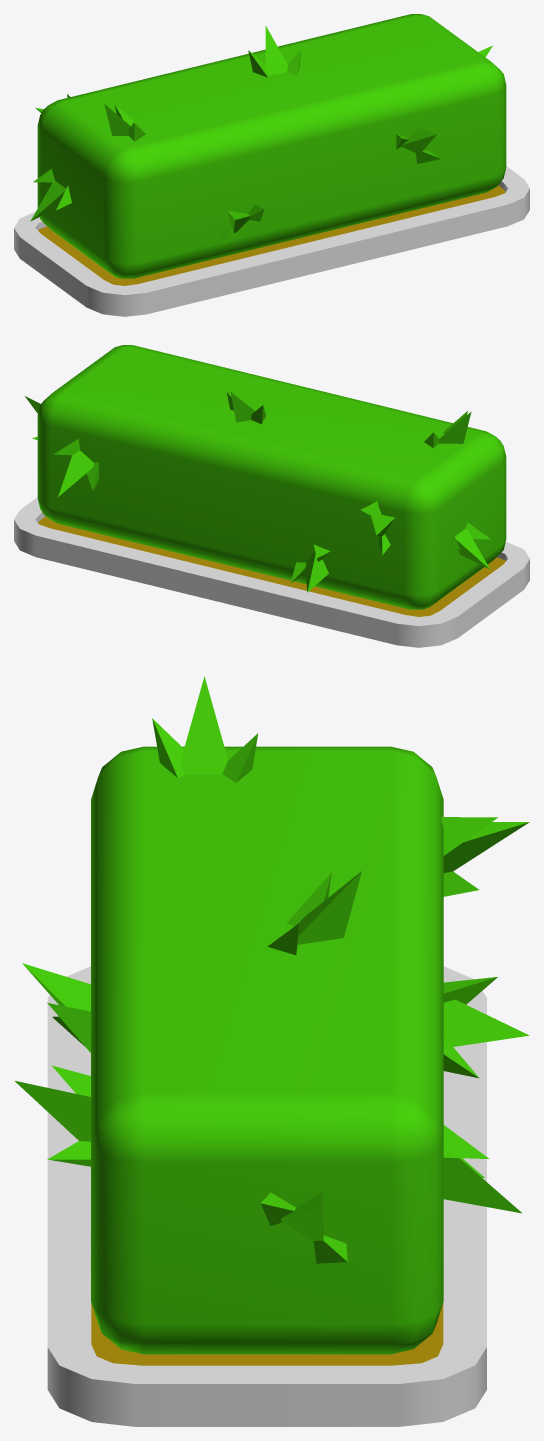
Rendered from flowerBed2.fbx.
3 renders of one model, top to bottom at view 1: azimuth 30°, elevation 25°; view 2: azimuth 150°, elevation 25°; view 3: azimuth 270°, elevation 25°, orthographic. The views are drawn at different scales.
Visible parts, largest first — view 1: flowerBed2; view 2: flowerBed2; view 3: flowerBed2.
Boxes of the visible parts, box(x1,y1,x2,y2) form: flowerBed2: box(14, 14, 529, 316); flowerBed2: box(14, 345, 529, 647); flowerBed2: box(14, 676, 529, 1426).
Bounding box in the file's own units: 368 × 138 × 179.
